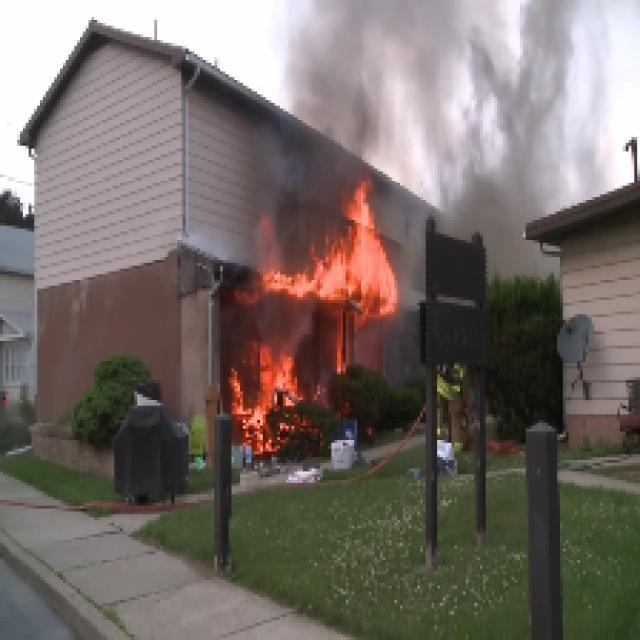Fire: (229, 160, 417, 483)
Smoke: (251, 6, 640, 238)
